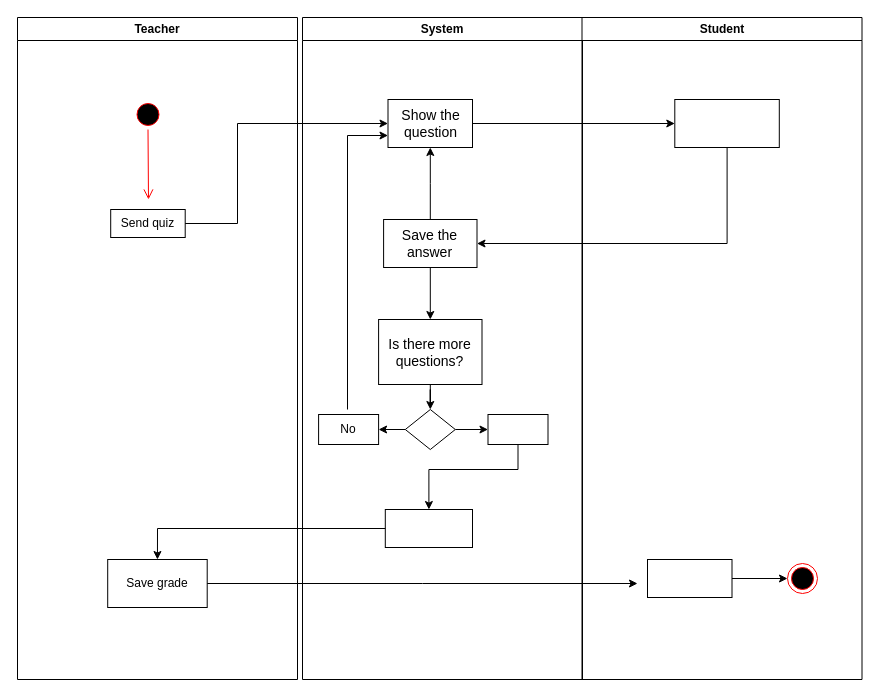
Image size: 880x697. Some labels were removed from this diagram. The centre of each missing label's shape, as x and y in pixels:
"Answer the question" goes at pixel 726 123.
"Calculate grade" goes at pixel 428 528.
"Show grade" goes at pixel 689 578.
"Yes" goes at pixel 517 429.
